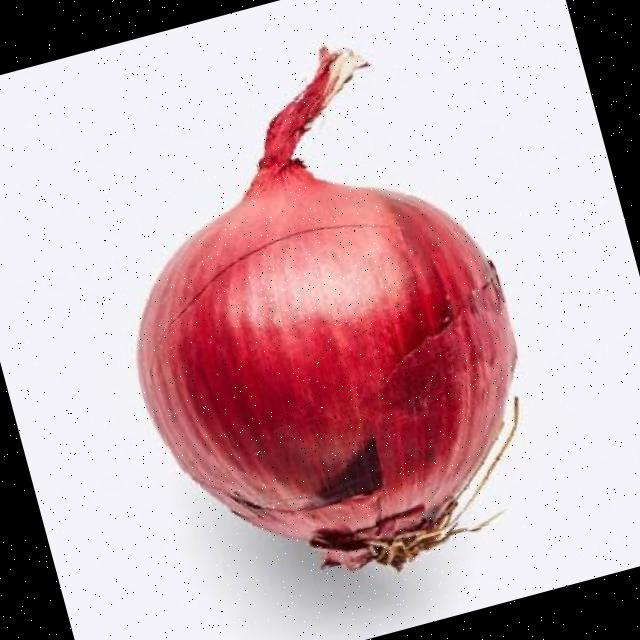Onion: (139, 45, 520, 571)
